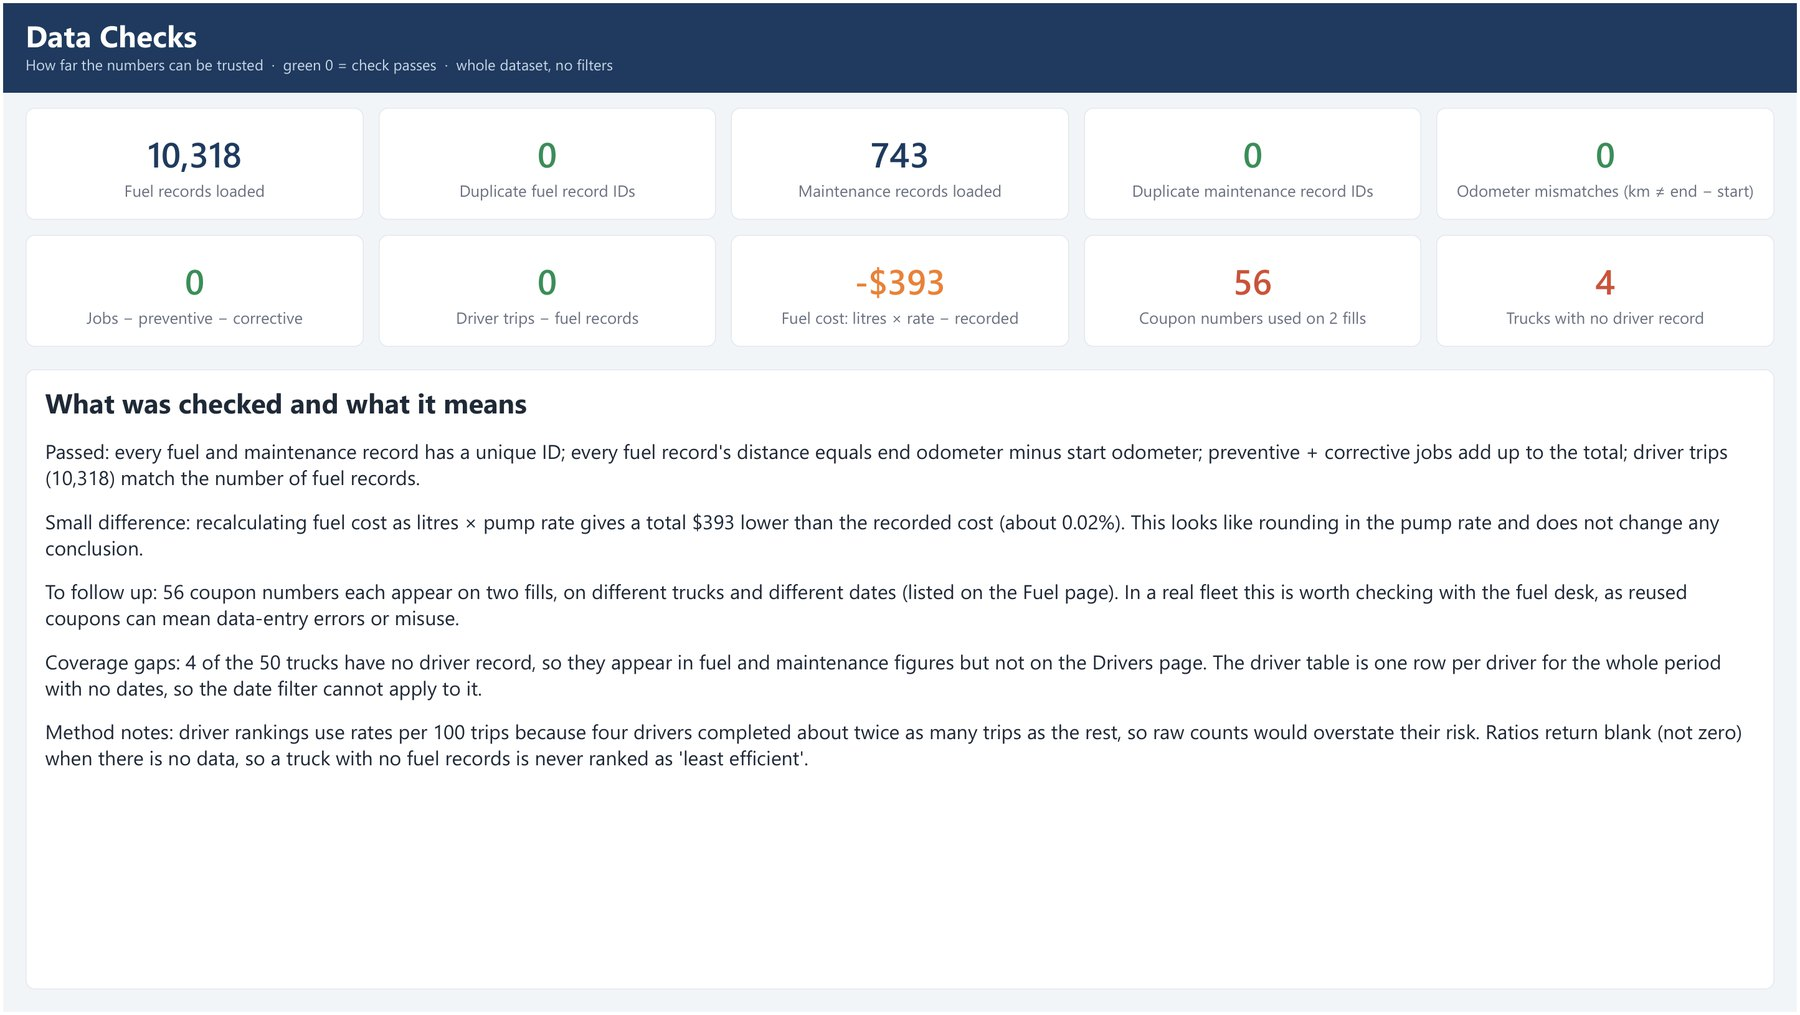

The dashboard page shown, as its layout file describes it:
{"tool":"powerbi","page":{"name":"Data Checks","canvas":[1920,1080],"ordinal":4},"visuals":[{"type":"textbox","box":[0,0,1920,96],"z":0},{"type":"card","fields":{"Values":["_Measures_.Check - Fuel Rows"]},"box":[24,112,361.6,120],"z":1000},{"type":"card","fields":{"Values":["_Measures_.Check - Fuel Duplicate SN"]},"box":[401.6,112,361.6,120],"z":1001},{"type":"card","fields":{"Values":["_Measures_.Check - Maintenance Rows"]},"box":[779.2,112,361.6,120],"z":1002},{"type":"card","fields":{"Values":["_Measures_.Check - Maintenance Duplicate SN"]},"box":[1156.8,112,361.6,120],"z":1003},{"type":"card","fields":{"Values":["_Measures_.Check - Invalid ODO Rows"]},"box":[1534.4,112,361.6,120],"z":1004},{"type":"card","fields":{"Values":["_Measures_.Check - Jobs Reconcile"]},"box":[24,248,361.6,120],"z":1005},{"type":"card","fields":{"Values":["_Measures_.Check - Driver Trips vs Fuel Records"]},"box":[401.6,248,361.6,120],"z":1006},{"type":"card","fields":{"Values":["_Measures_.Check - Fuel Cost vs Litres x Rate"]},"box":[779.2,248,361.6,120],"z":1007},{"type":"card","fields":{"Values":["_Measures_.Duplicate Coupon Numbers"]},"box":[1156.8,248,361.6,120],"z":1008},{"type":"card","fields":{"Values":["_Measures_.Trucks Missing Driver Data"]},"box":[1534.4,248,361.6,120],"z":1009},{"type":"textbox","box":[24,392,1872,664],"z":3000}]}

Visuals, with their boxes in screenshot pixels (x1, y1, x2, y2), scaled from the page's 1920x1080 canvas onto the 1800x1015 screenshot:
textbox: <box>0,0,1799,90</box>
card - _Measures_.Check - Fuel Rows: <box>22,105,362,218</box>
card - _Measures_.Check - Fuel Duplicate SN: <box>376,105,716,218</box>
card - _Measures_.Check - Maintenance Rows: <box>730,105,1070,218</box>
card - _Measures_.Check - Maintenance Duplicate SN: <box>1084,105,1424,218</box>
card - _Measures_.Check - Invalid ODO Rows: <box>1438,105,1778,218</box>
card - _Measures_.Check - Jobs Reconcile: <box>22,233,362,346</box>
card - _Measures_.Check - Driver Trips vs Fuel Records: <box>376,233,716,346</box>
card - _Measures_.Check - Fuel Cost vs Litres x Rate: <box>730,233,1070,346</box>
card - _Measures_.Duplicate Coupon Numbers: <box>1084,233,1424,346</box>
card - _Measures_.Trucks Missing Driver Data: <box>1438,233,1778,346</box>
textbox: <box>22,368,1778,992</box>
